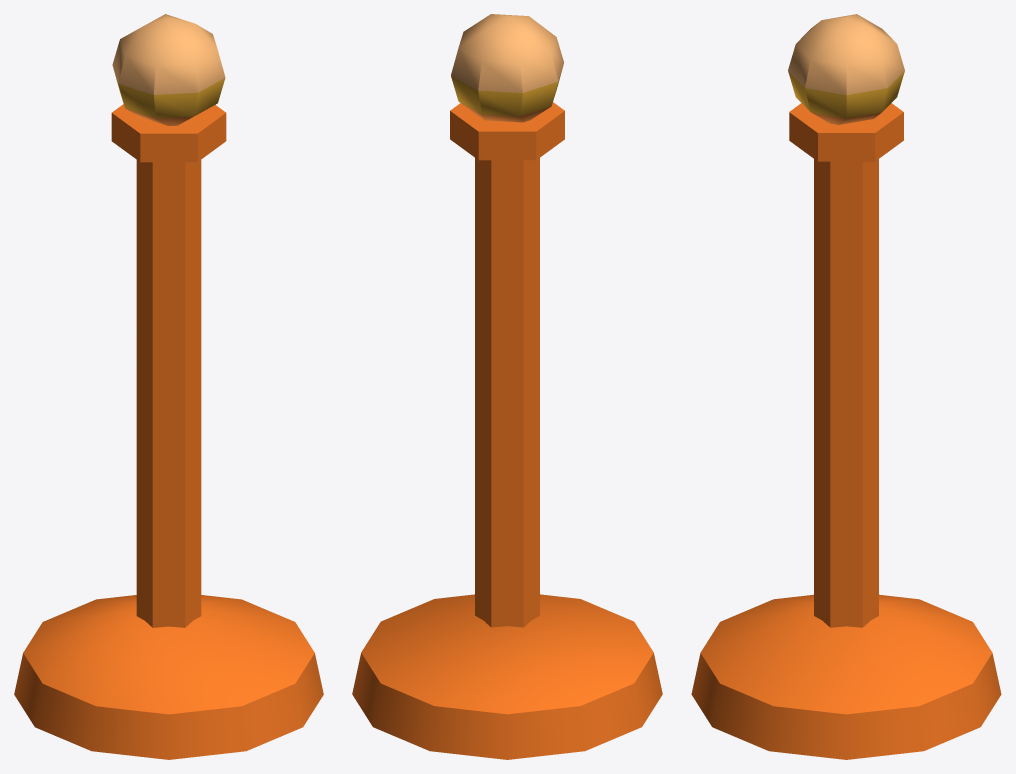
Rendered from pedestal_fila_laranja_pacote.glb.
3 views of the same model, side by side, from view 1: azimuth 30°, elevation 25°; view 2: azimuth 150°, elevation 25°; view 3: azimuth 270°, elevation 25° (orthographic).
Parts seen in each view (by area): view 1: pedestal_fila_laranja_pacote; view 2: pedestal_fila_laranja_pacote; view 3: pedestal_fila_laranja_pacote.
Part boxes in pixels (x1,y1,x2,y2): pedestal_fila_laranja_pacote: (14,14,323,759); pedestal_fila_laranja_pacote: (352,14,662,759); pedestal_fila_laranja_pacote: (691,14,1001,759).
Size of the model in its own units: 0.4254 by 1.02 by 0.4254.
1 material, 1 textured.
